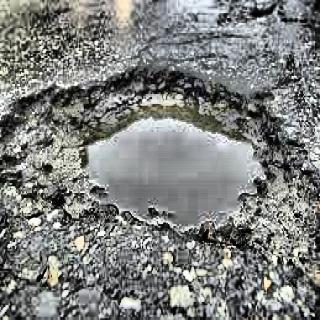pothole: (5, 58, 296, 245)
